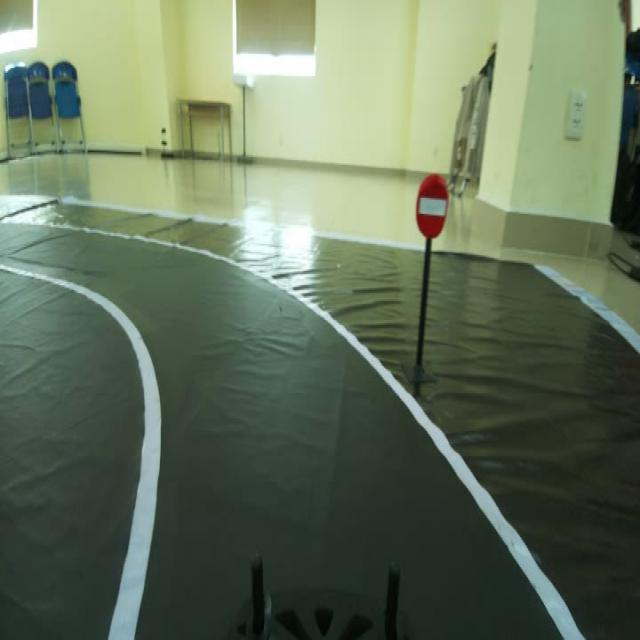no_entry: (406, 162, 462, 246)
